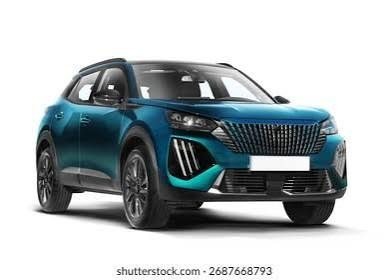car: (34, 58, 354, 232), (31, 56, 348, 223)
